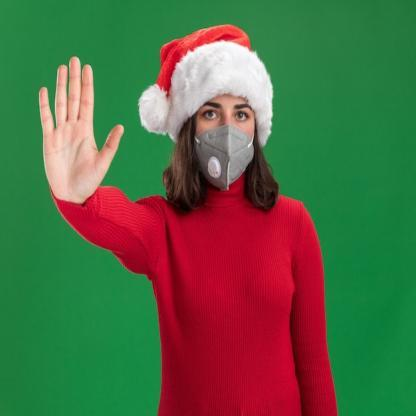stop: (37, 53, 126, 210)
